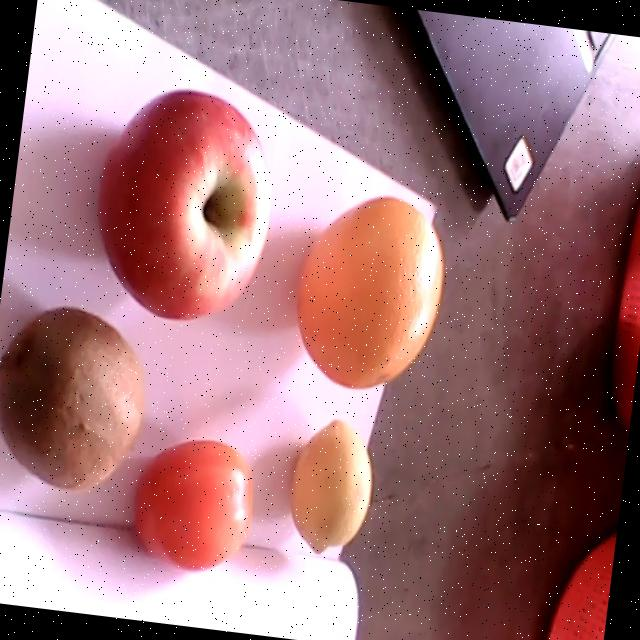apple: (97, 91, 274, 319)
kiwi: (0, 306, 144, 490)
lemon: (290, 420, 373, 555)
orange: (297, 197, 444, 390)
tomato: (133, 439, 255, 570)
